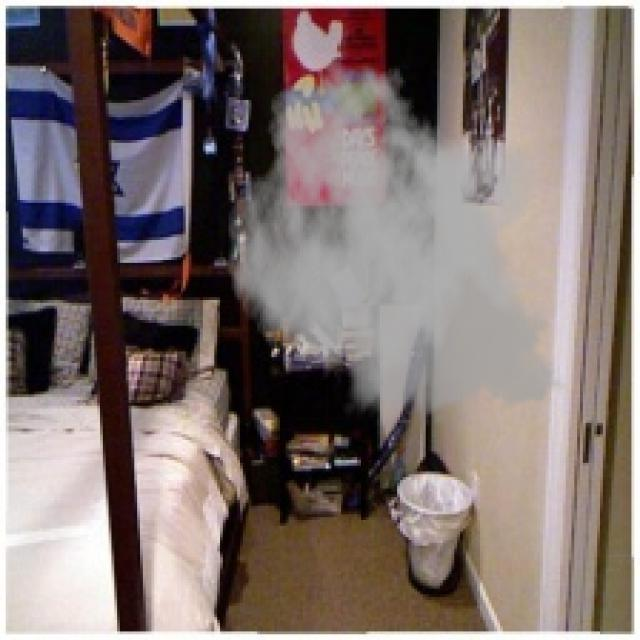smoke: (226, 51, 571, 428)
